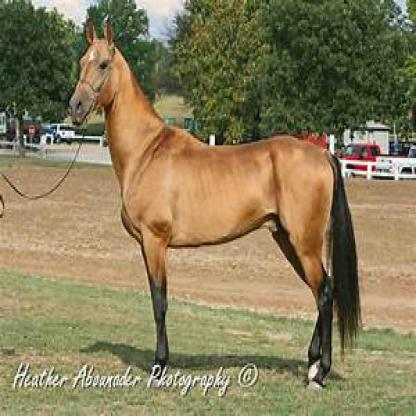horse: (68, 18, 362, 365)
